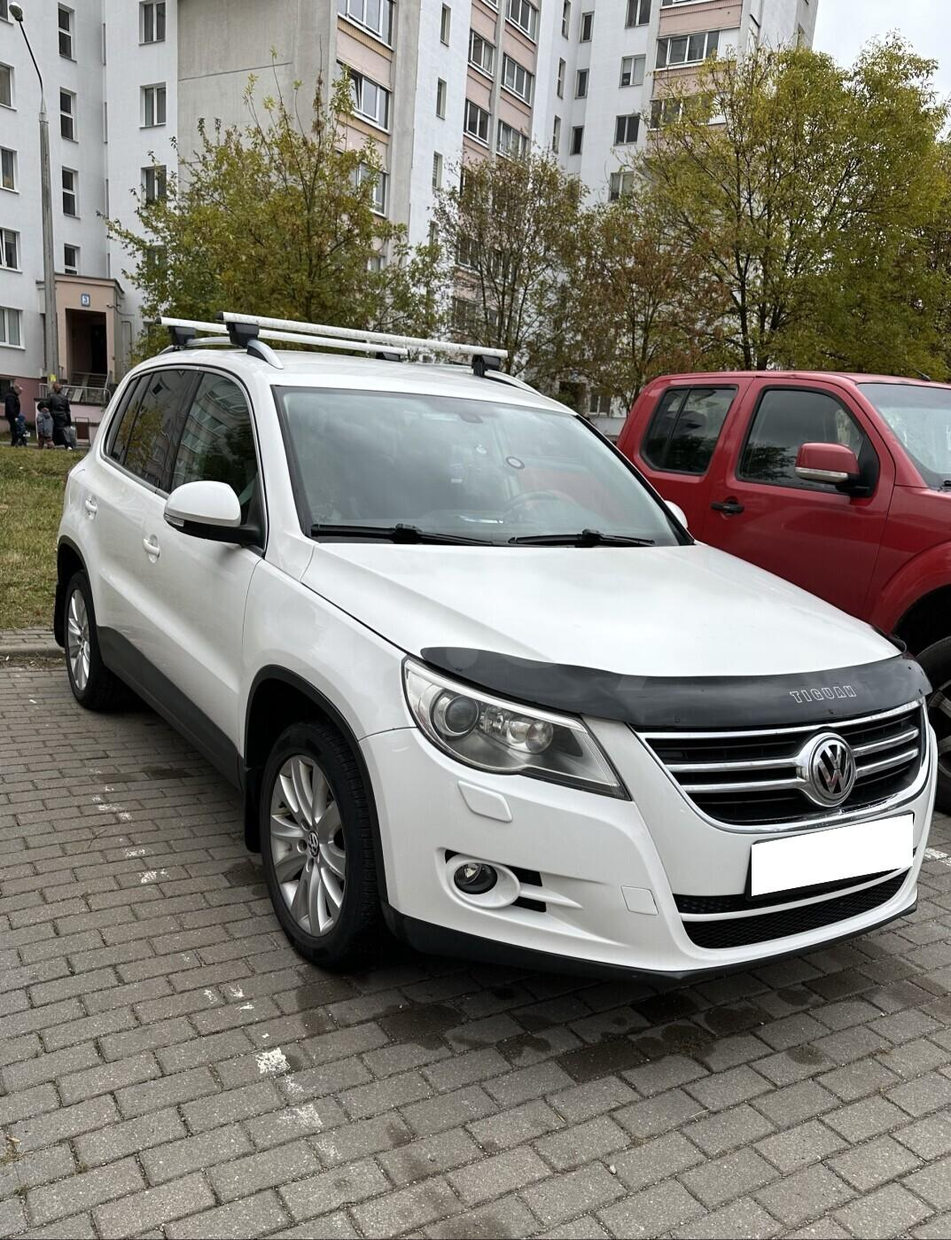Tiguan_2007-2011: (50, 330, 939, 998)
